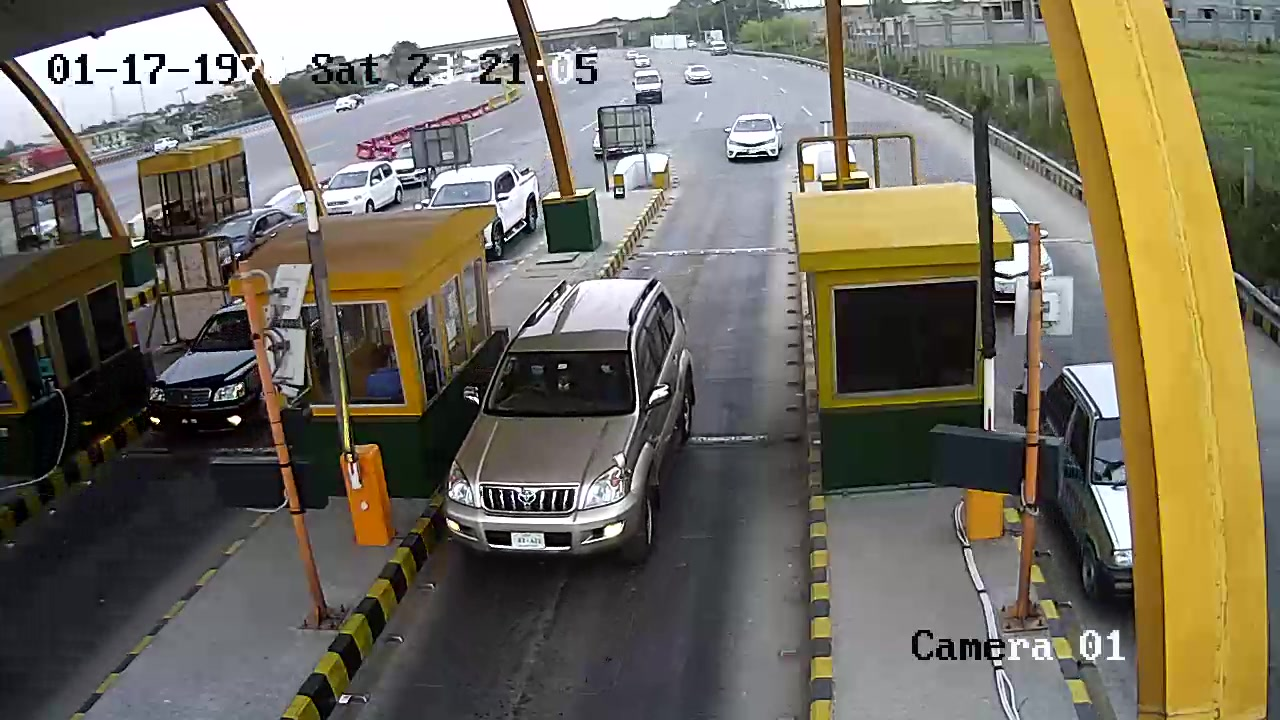F1: (438, 273, 704, 579)
